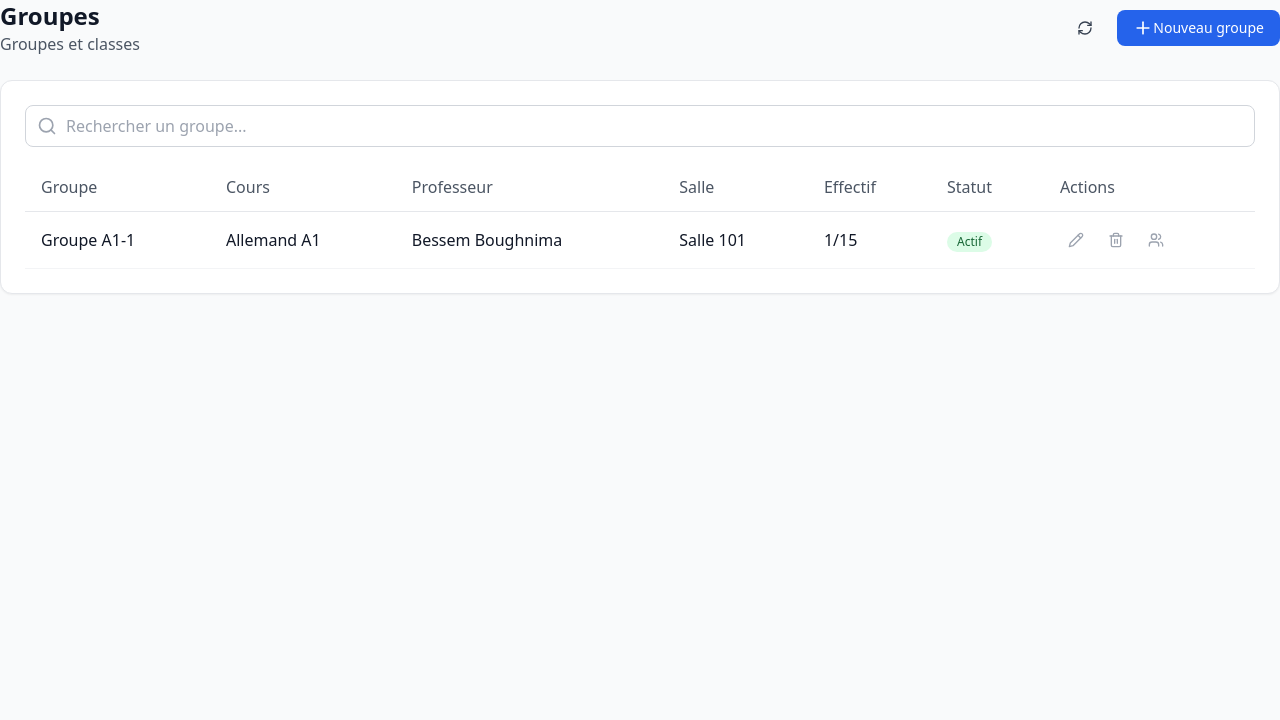
Groups page — candidats du groupe › opens the members modal and adds a candidate to the group
This screenshot has width=1280, height=720.
Click the button named "Gérer les candidats du groupe Groupe A1-1" at {"x": 1156, "y": 240}, box [1140,224,1172,256]
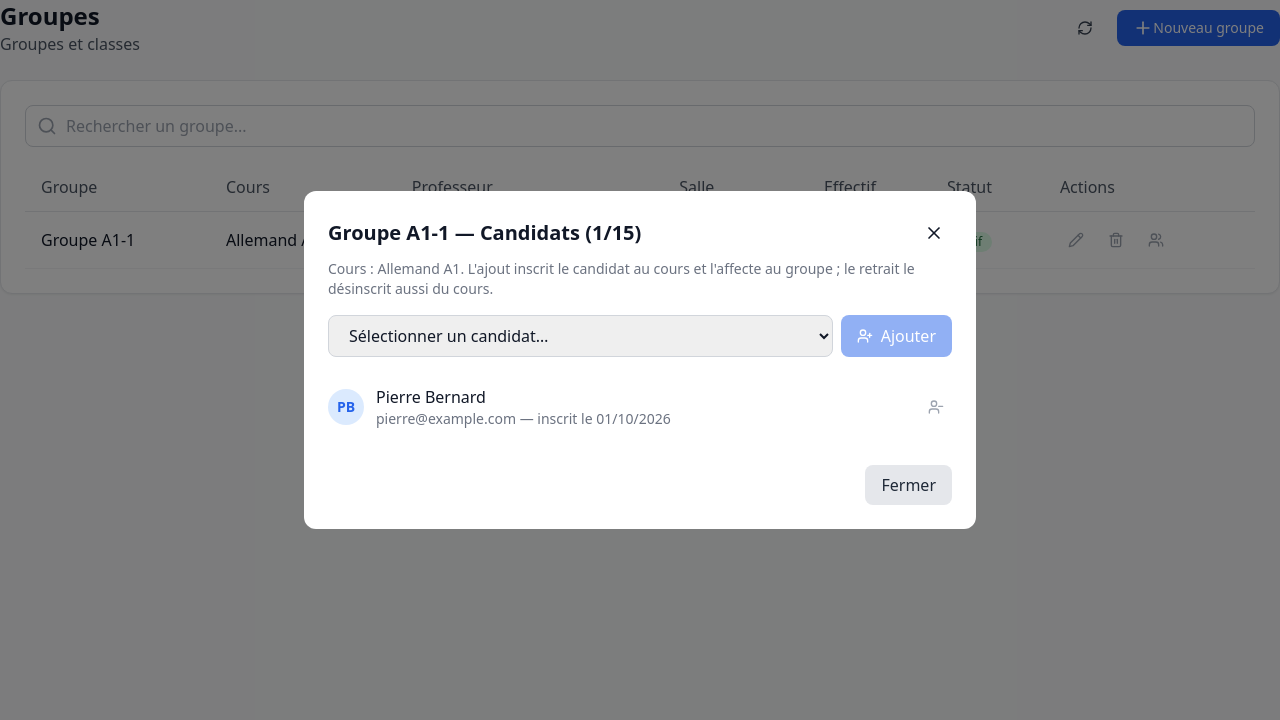
Result: the text "Pierre Bernard" is shown at [376,386,486,408]
Select "Sophie Leroy — sophie@example.com" in the dropdown named "Candidat à ajouter" at {"x": 580, "y": 336}, box [328,315,833,357]
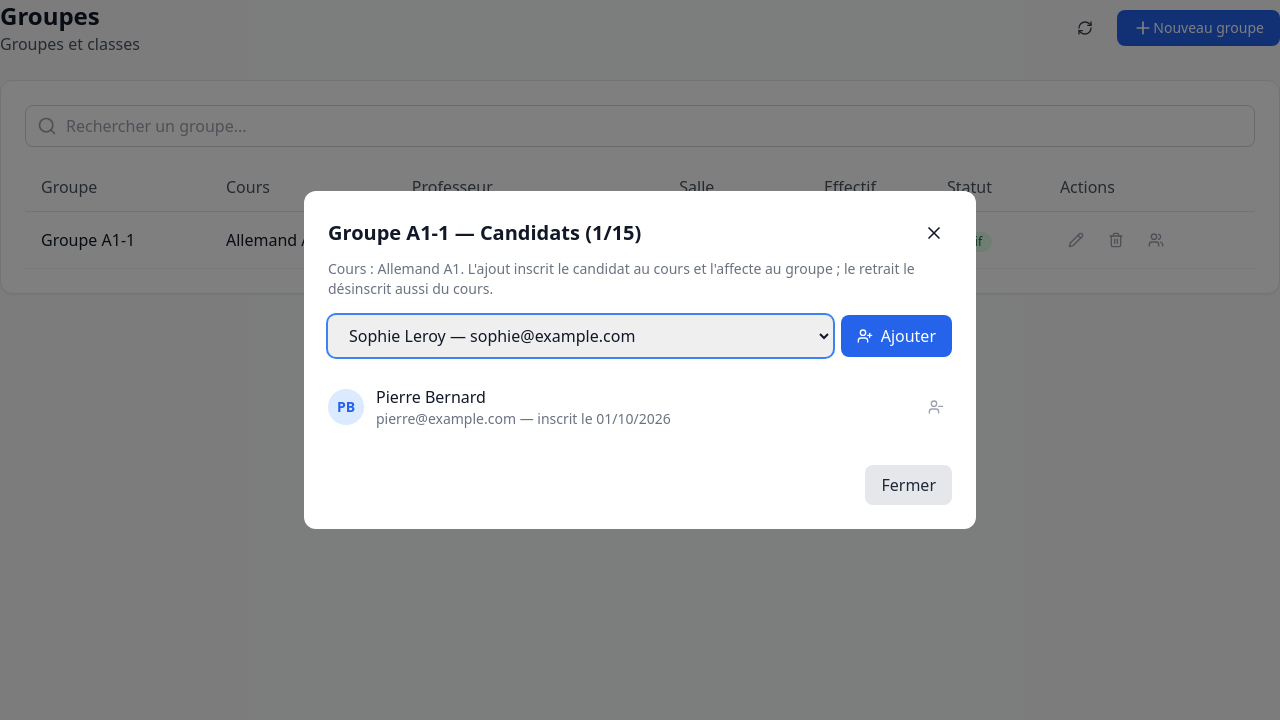
Click the button "Ajouter" at {"x": 896, "y": 336}, box [841,315,952,357]
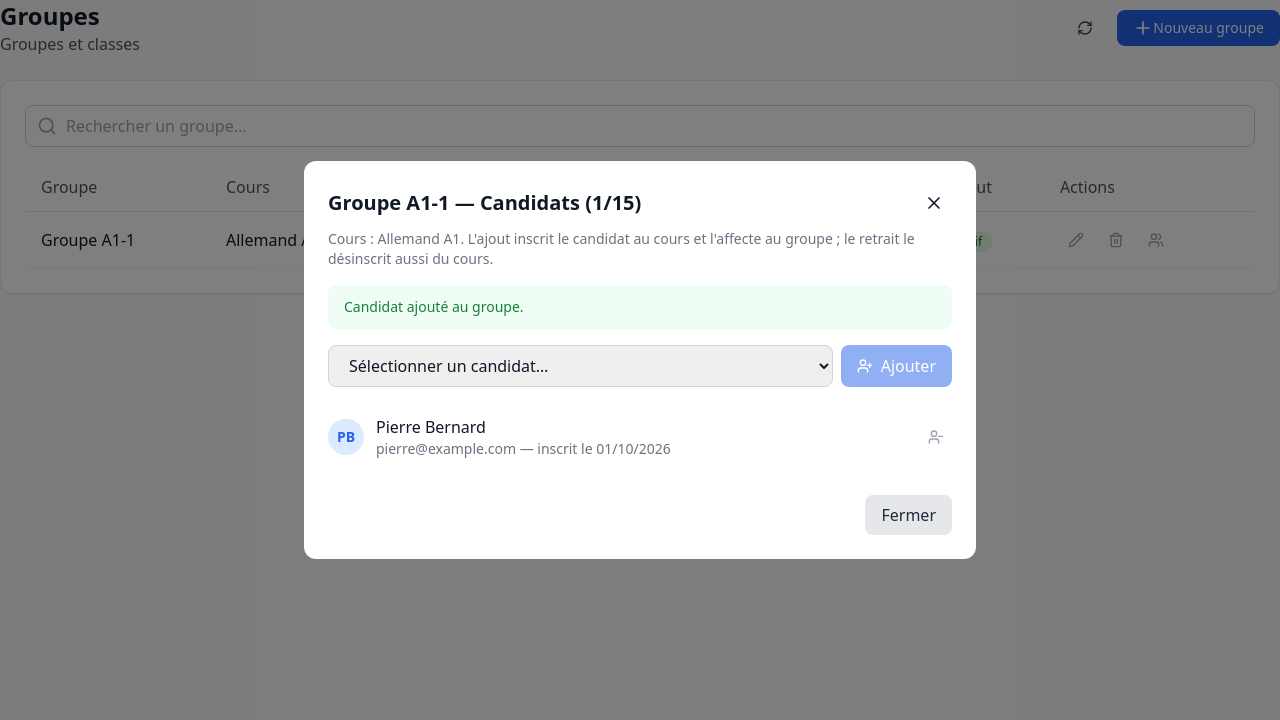
Result: the text "Candidat ajouté au groupe." is shown at [328,285,952,329]
